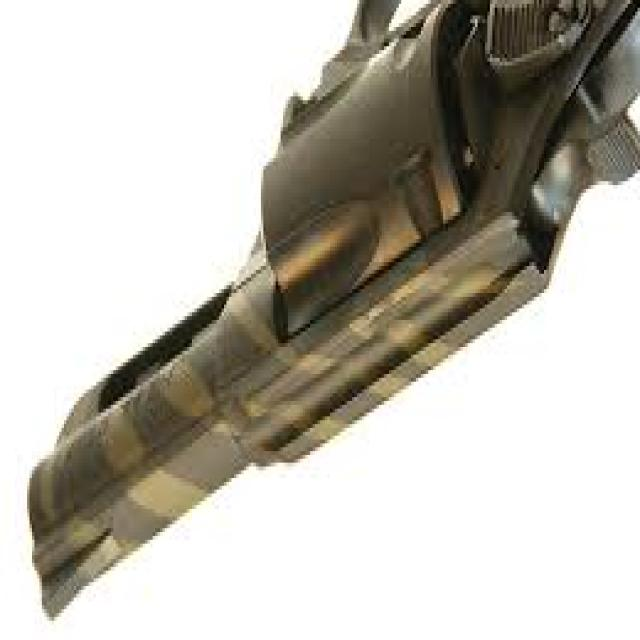Gun: (29, 0, 640, 640)
